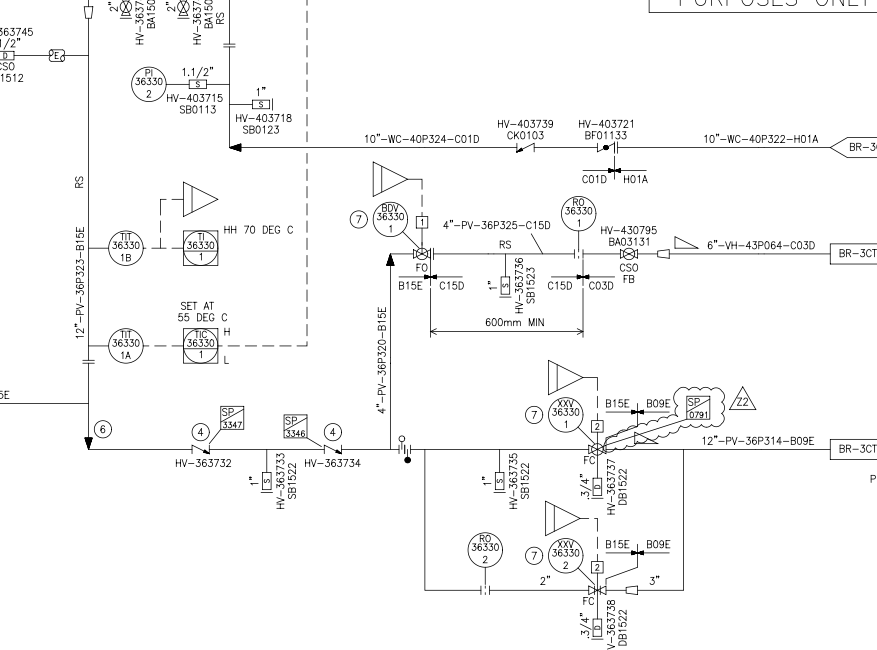Instrument: (105, 224, 147, 270), (465, 528, 505, 572), (371, 198, 410, 241), (129, 62, 168, 105), (545, 394, 585, 435), (108, 324, 147, 365), (544, 535, 585, 574), (561, 193, 598, 233)
Instrument-square: (178, 325, 221, 368), (177, 228, 222, 269)
